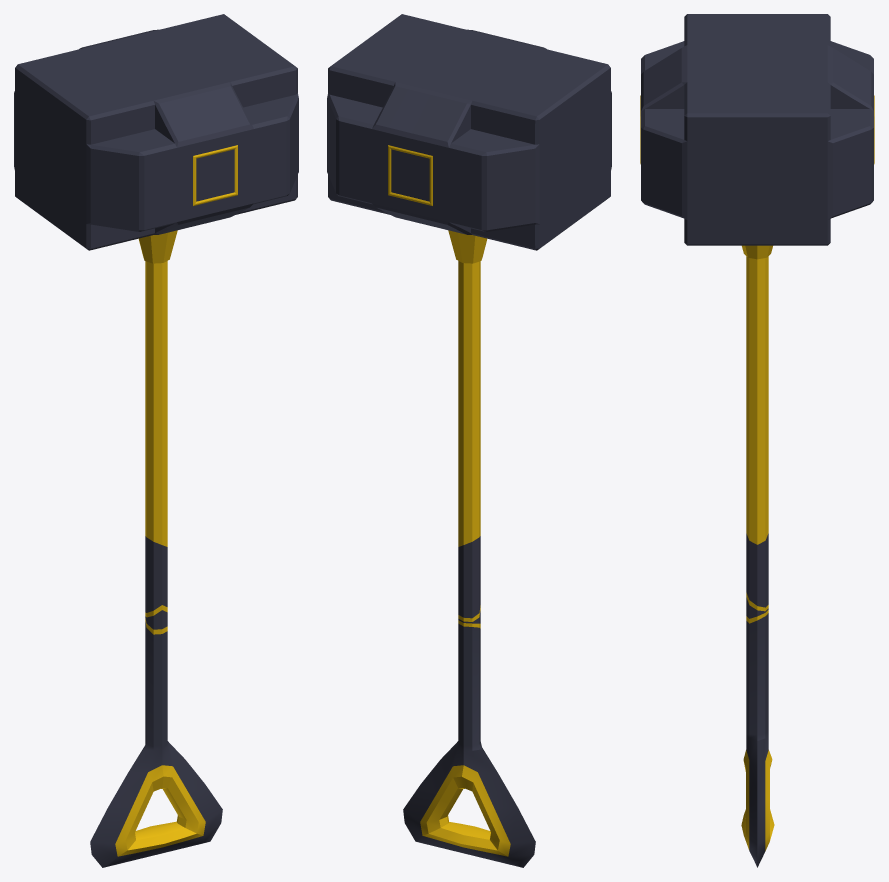
Rendered from Hammer.fbx.
3 renders of one model, left to right at view 1: azimuth 30°, elevation 25°; view 2: azimuth 150°, elevation 25°; view 3: azimuth 270°, elevation 25°, orthographic.
Visible parts, largest first — view 1: Hammer; view 2: Hammer; view 3: Hammer.
Boxes of the visible parts, x1,y1,x2,y2 form: Hammer: (14, 14, 298, 867); Hammer: (327, 14, 611, 867); Hammer: (640, 14, 874, 867).
Size of the model in its own units: 225 by 802 by 219.
1 material, 1 textured.
